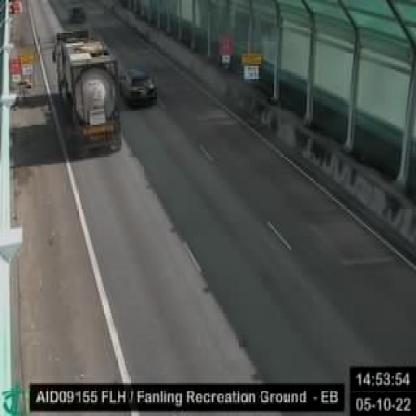Car: (118, 68, 158, 109)
Truck: (50, 29, 119, 151)
